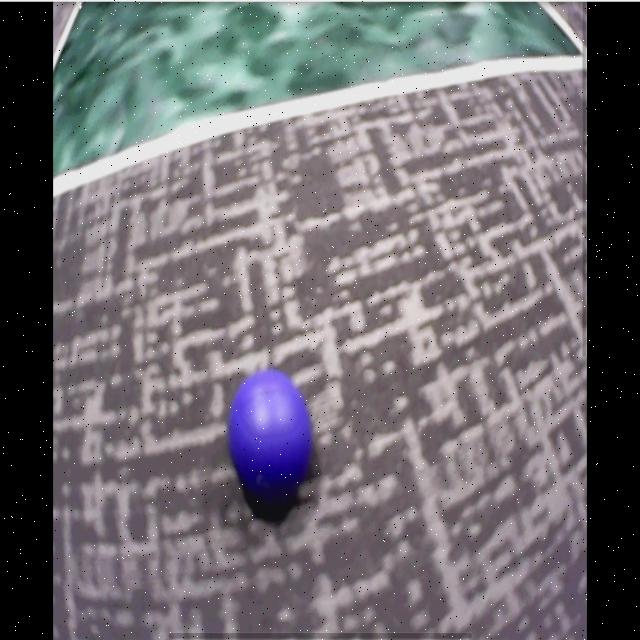ball: (230, 376, 311, 491)
